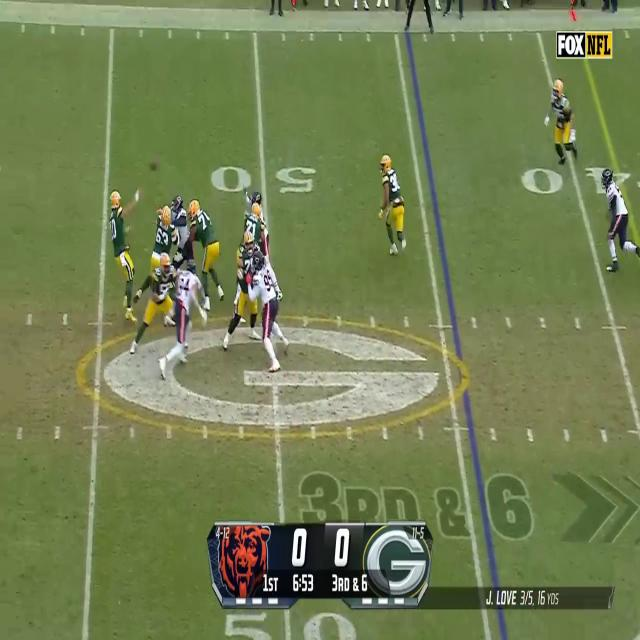Player: (172, 256, 206, 362), (108, 188, 134, 325), (252, 252, 278, 368), (144, 254, 179, 334), (602, 168, 628, 272), (380, 153, 405, 259), (549, 78, 575, 165), (189, 201, 220, 271), (235, 233, 253, 347), (148, 206, 172, 254), (173, 196, 189, 259), (244, 202, 264, 237)
